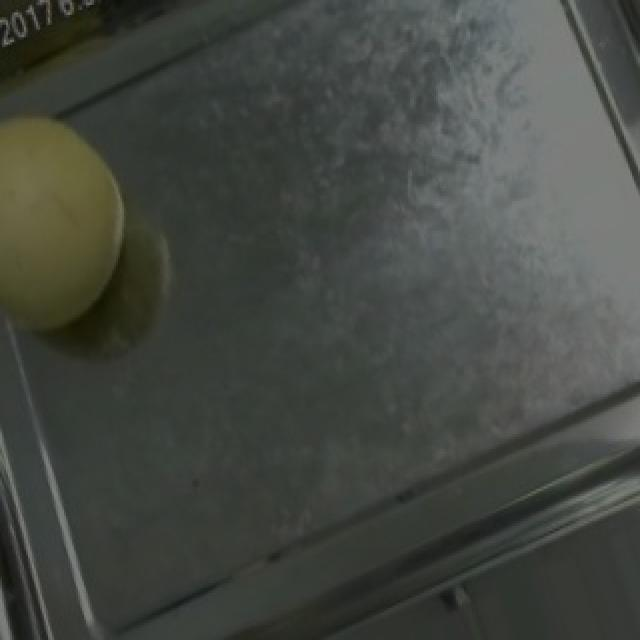Fruit: (0, 74, 166, 364)
